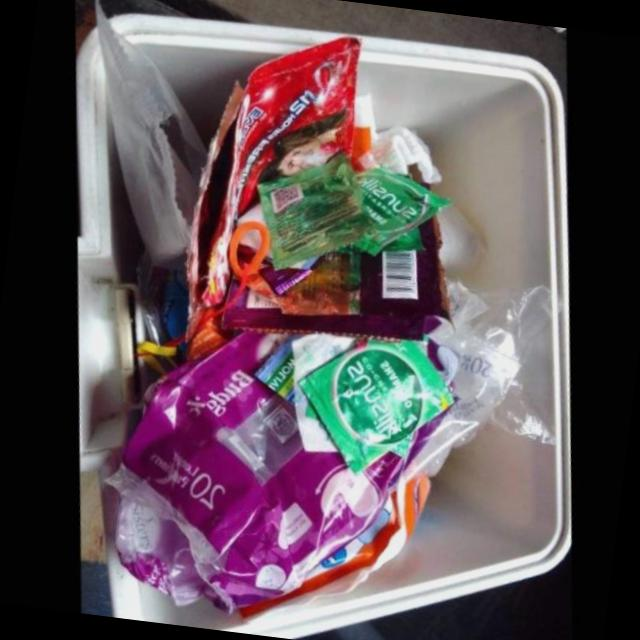giay: (351, 123, 442, 184), (442, 199, 488, 277)
goi_nhua_nho: (188, 35, 362, 357), (236, 474, 433, 625), (221, 215, 455, 342), (300, 336, 455, 469), (258, 152, 371, 269), (353, 167, 453, 255)
tui_ni_long: (103, 328, 407, 611), (399, 272, 567, 490), (94, 4, 207, 264)
